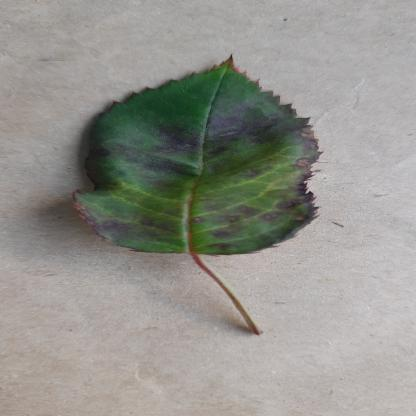downy-mildew: (58, 56, 330, 254)
